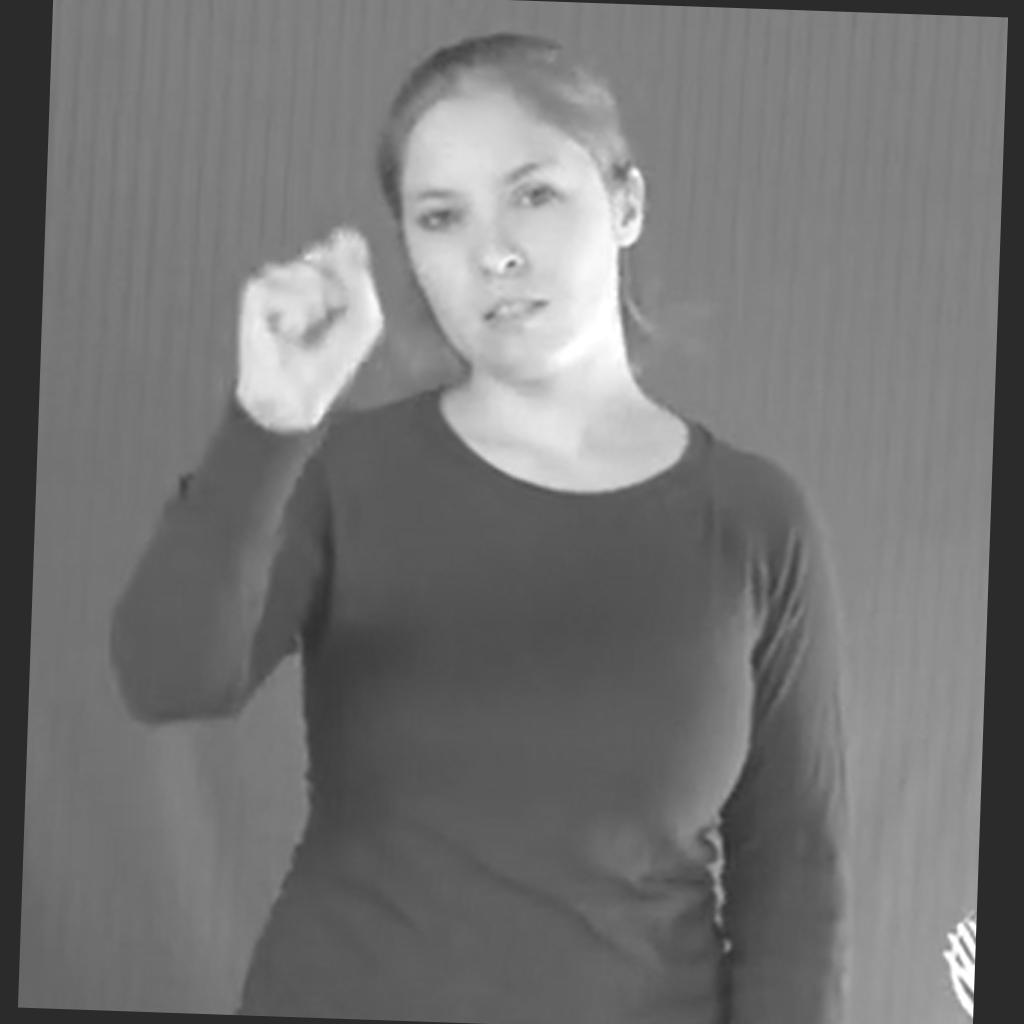yes: (236, 222, 386, 398)
